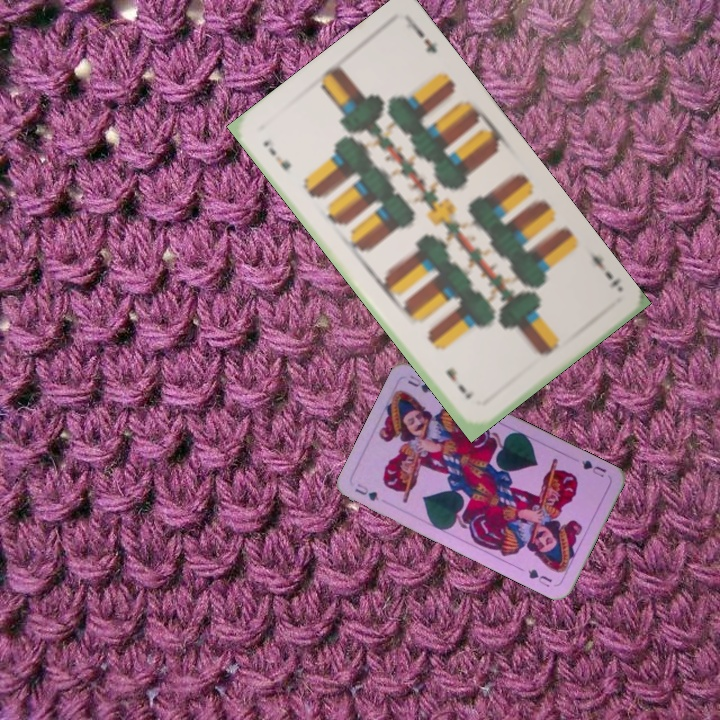E7: (582, 246, 624, 291), (259, 135, 294, 173)
GU: (575, 456, 609, 480), (350, 479, 381, 504)
